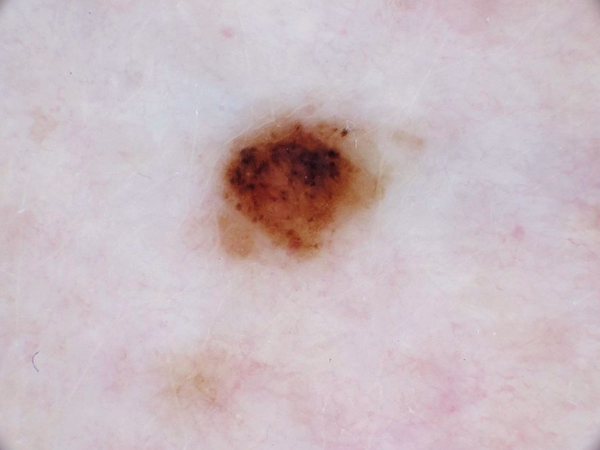Detected Lesion: (215, 112, 379, 263)
